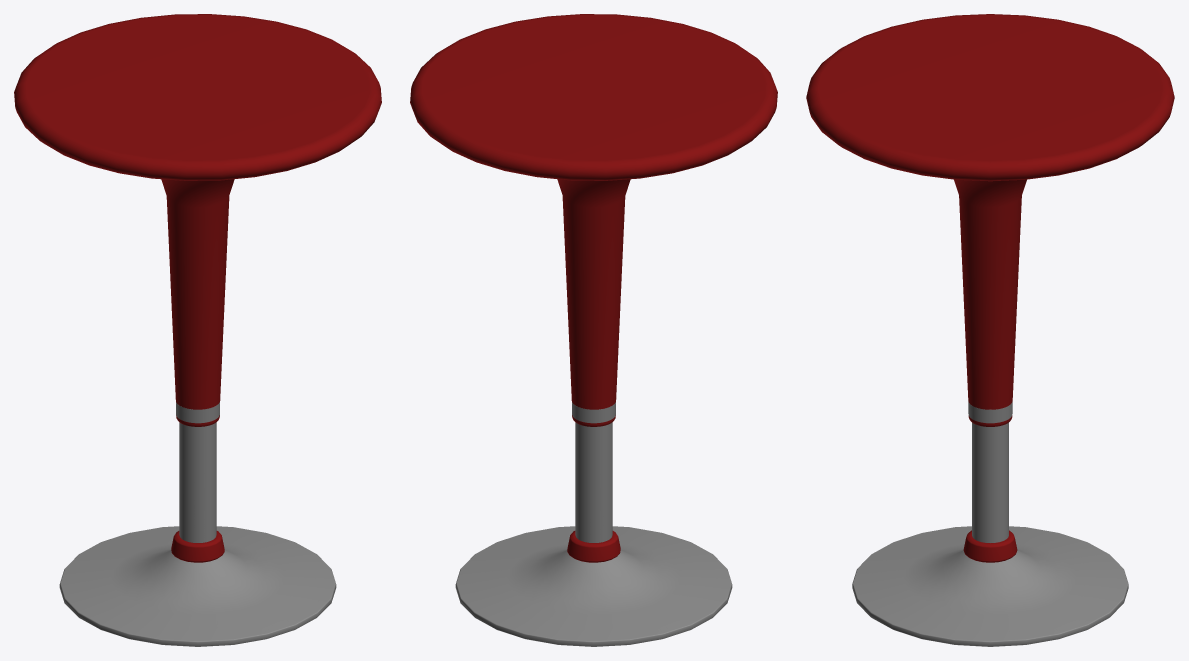
File: barTable.fbx
The picture shows the model from 3 angles, left to right: view 1: azimuth 30°, elevation 25°; view 2: azimuth 150°, elevation 25°; view 3: azimuth 270°, elevation 25°; orthographic projection.
Visible parts, largest first — view 1: Table_TableMat, Base_MetalMat, Base_TableMat, Table_MetalMat; view 2: Table_TableMat, Base_MetalMat, Base_TableMat, Table_MetalMat; view 3: Table_TableMat, Base_MetalMat, Base_TableMat, Table_MetalMat.
Part boxes in pixels (x1,y1,x2,y2): Table_TableMat: [14, 14, 381, 426]; Base_MetalMat: [59, 422, 336, 646]; Base_TableMat: [171, 531, 224, 562]; Table_MetalMat: [176, 402, 219, 423]; Table_TableMat: [410, 14, 777, 426]; Base_MetalMat: [455, 422, 732, 646]; Base_TableMat: [567, 531, 620, 562]; Table_MetalMat: [572, 402, 615, 423]; Table_TableMat: [806, 14, 1174, 426]; Base_MetalMat: [852, 422, 1128, 646]; Base_TableMat: [963, 530, 1017, 562]; Table_MetalMat: [968, 401, 1012, 423].
Bounding box in the file's own units: 60 × 90 × 60.
